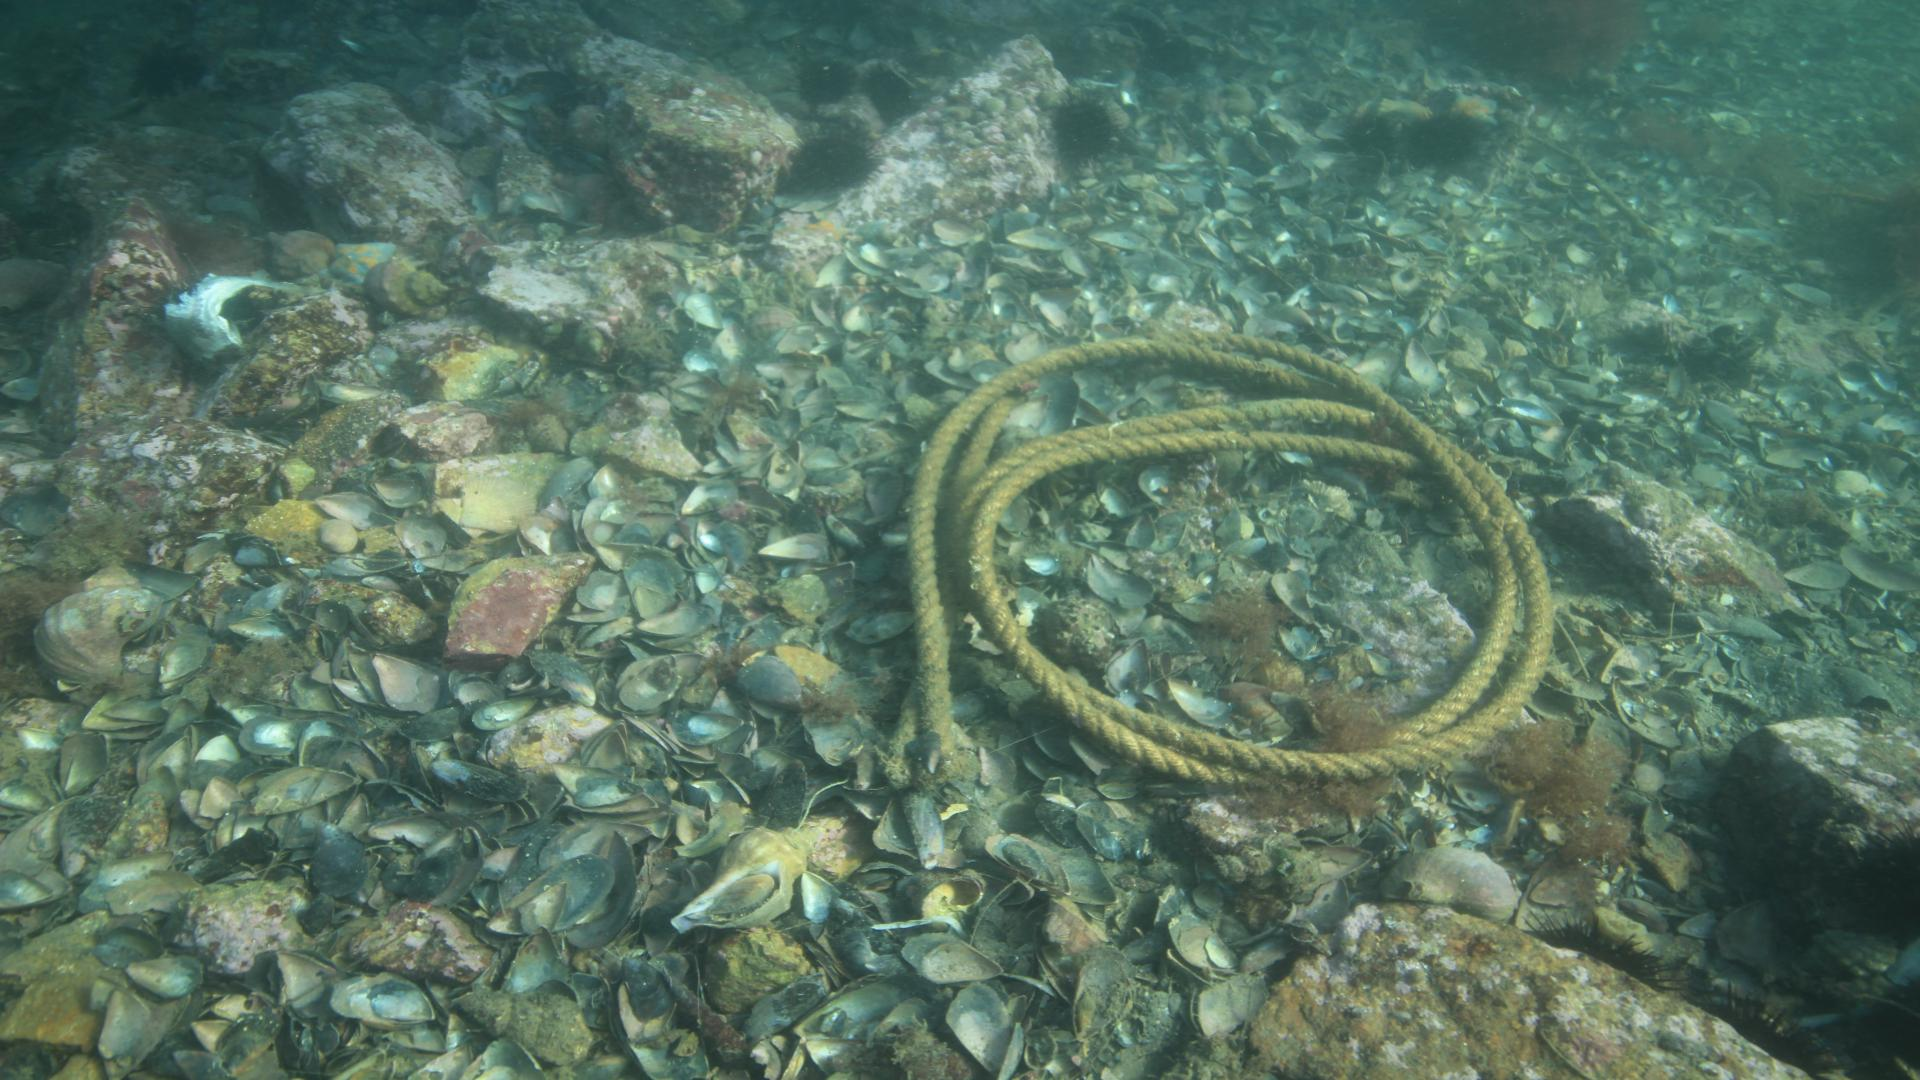bundle of ropes: (902, 323, 1564, 785)
